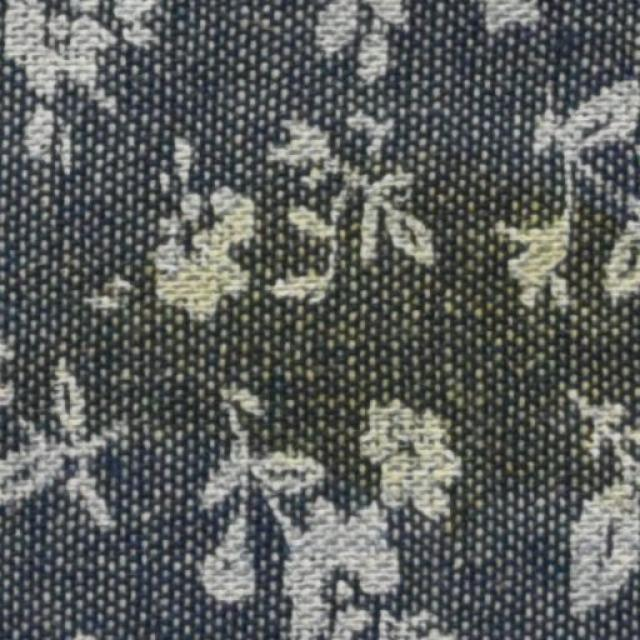Stain: (82, 138, 639, 507)
